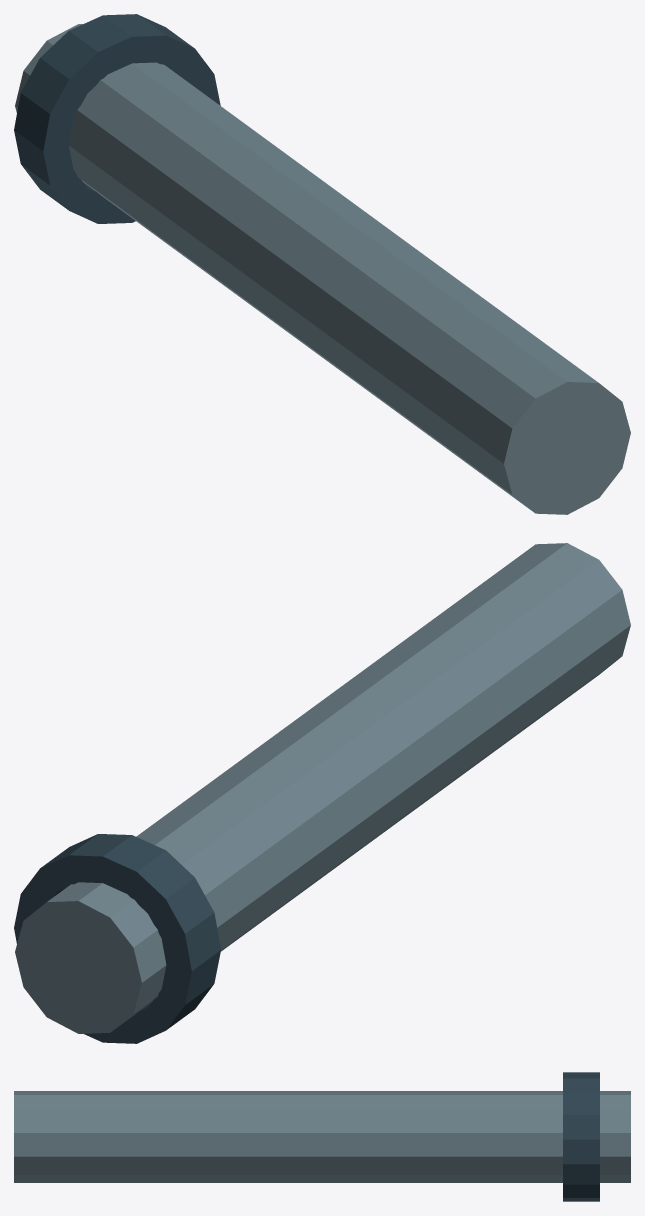
The model's file is 12_Shaft_1m.obj.
3 views of the same model, one above another, from view 1: azimuth 30°, elevation 25°; view 2: azimuth 150°, elevation 25°; view 3: azimuth 270°, elevation 25° (orthographic). The views are drawn at different scales.
Size of the model in its own units: 0.21 by 0.21 by 1.
